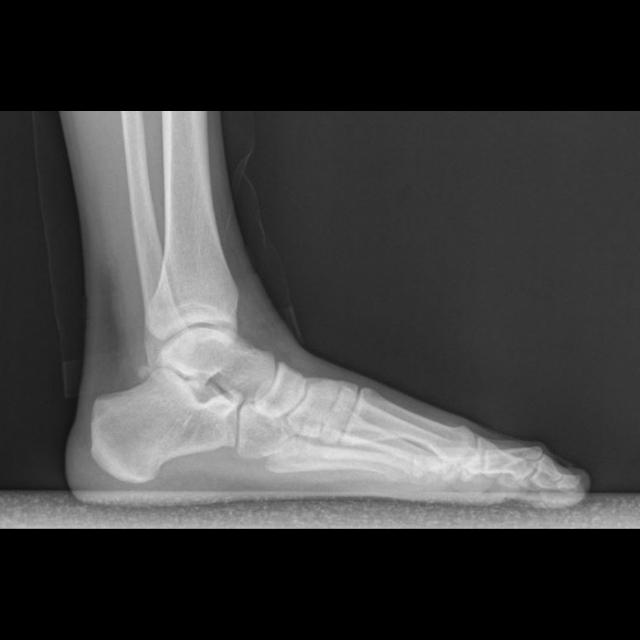a: (88, 363, 233, 485)
b: (257, 361, 302, 415)
c: (335, 386, 477, 476)
